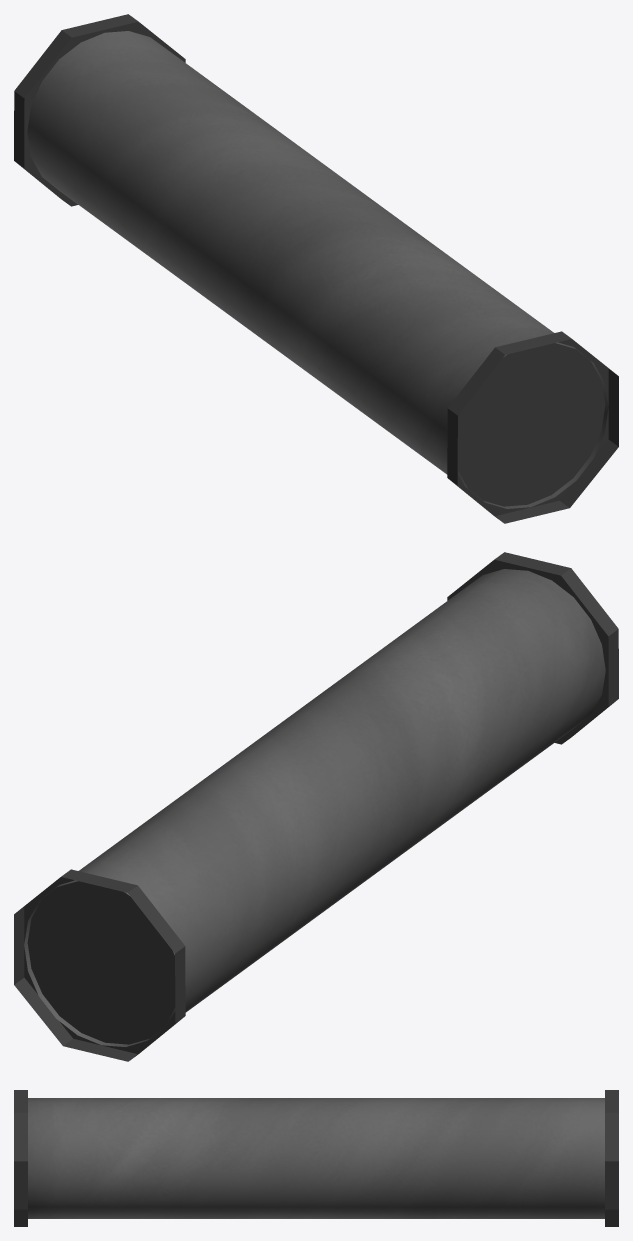
Rendered from pipe long.fbx.
The picture shows the model from 3 angles, top to bottom: view 1: azimuth 30°, elevation 25°; view 2: azimuth 150°, elevation 25°; view 3: azimuth 270°, elevation 25°; orthographic projection. The views are drawn at different scales.
Visible parts, largest first — view 1: pipe_long; view 2: pipe_long; view 3: pipe_long.
Boxes of the visible parts, x1=… form: pipe_long: x1=14, y1=14, x2=618, y2=523; pipe_long: x1=14, y1=552, x2=618, y2=1061; pipe_long: x1=14, y1=1090, x2=618, y2=1226.
Size of the model in its own units: 32.94 by 32.99 by 157.
1 material, 1 textured.
